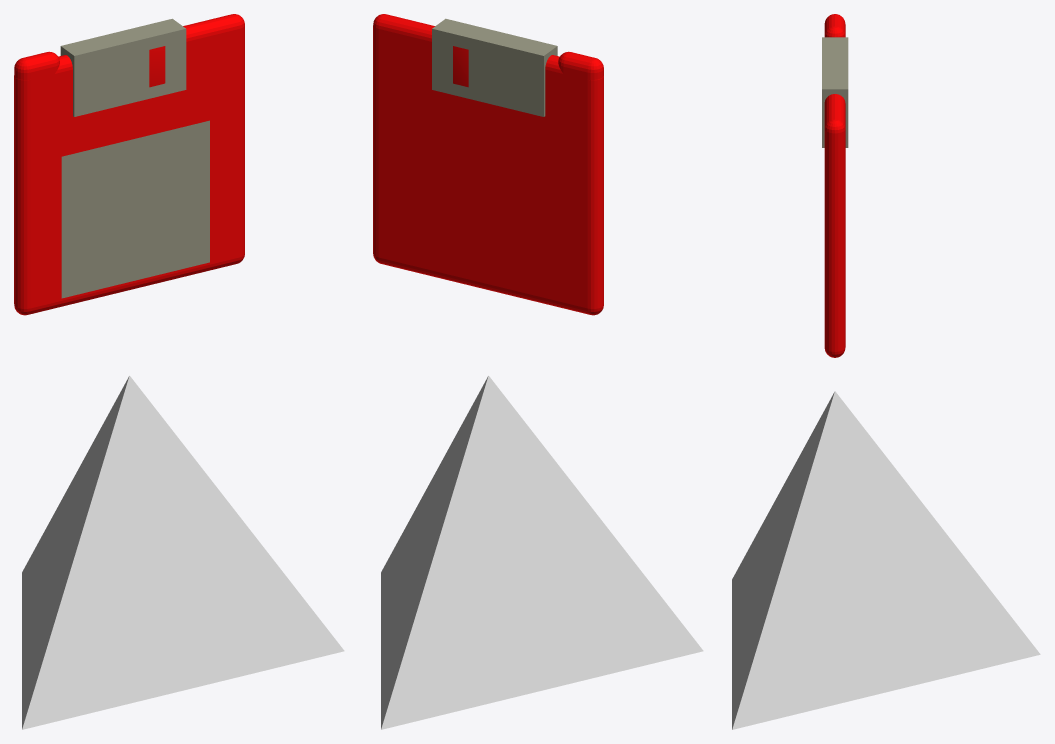
Rendered from Floppy Disc[Red].fbx.
3 views of the same model, side by side, from view 1: azimuth 30°, elevation 25°; view 2: azimuth 150°, elevation 25°; view 3: azimuth 270°, elevation 25° (orthographic). The views are drawn at different scales.
Visible parts, largest first — view 1: Platonic, Cube_1, Plane, Cube, Cube_2, Cube_3; view 2: Platonic, Cube_1, Cube, Cube_2, Cube_3; view 3: Platonic, Cube_1, Cube.
Boxes of the visible parts, left/top/right/bottom form: Platonic: left=22, top=375, right=344, bottom=729; Cube_1: left=14, top=14, right=244, bottom=315; Plane: left=61, top=120, right=209, bottom=298; Cube: left=60, top=18, right=186, bottom=116; Cube_2: left=14, top=51, right=59, bottom=300; Cube_3: left=149, top=46, right=165, bottom=87; Platonic: left=381, top=375, right=703, bottom=729; Cube_1: left=373, top=14, right=603, bottom=315; Cube: left=432, top=18, right=557, bottom=116; Cube_2: left=558, top=51, right=603, bottom=300; Cube_3: left=453, top=46, right=468, bottom=87; Platonic: left=732, top=391, right=1040, bottom=729; Cube_1: left=824, top=94, right=845, bottom=357; Cube: left=822, top=37, right=848, bottom=147.
Size of the model in its own units: 163 by 299 by 141.
